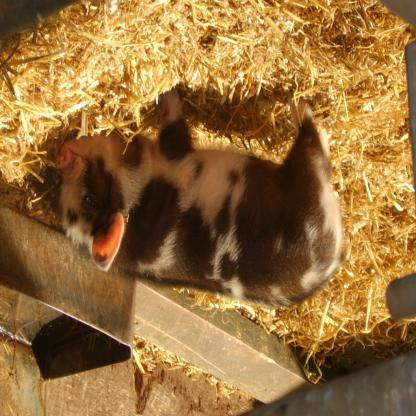boar: (55, 85, 350, 312)
